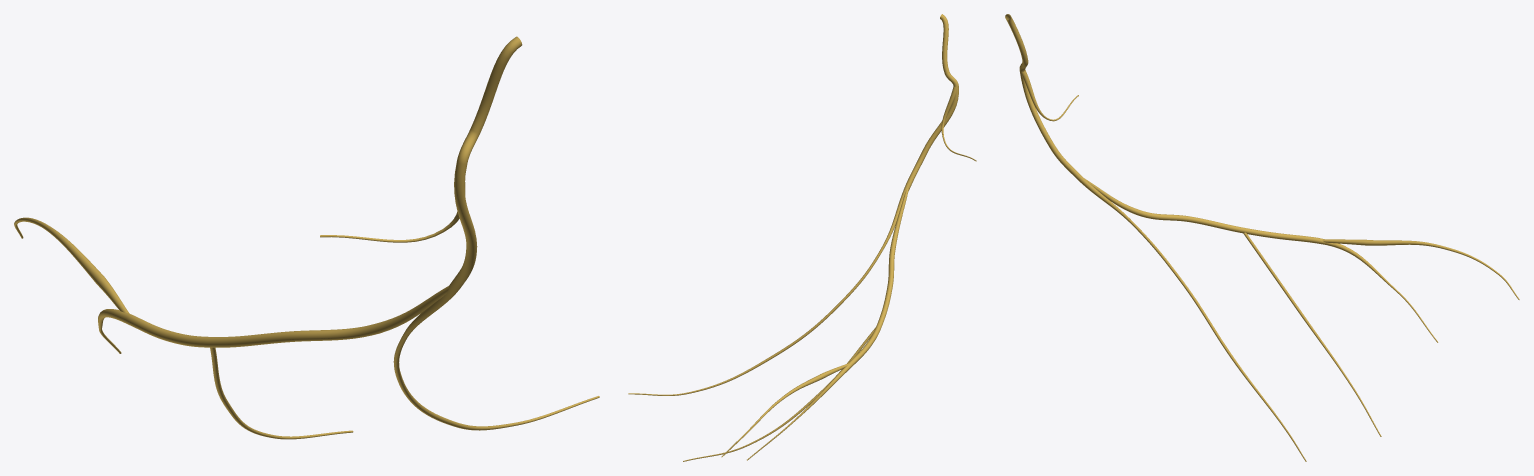
The picture shows the model from 3 angles, left to right: view 1: azimuth 30°, elevation 25°; view 2: azimuth 150°, elevation 25°; view 3: azimuth 270°, elevation 25°; orthographic projection. The views are drawn at different scales.
Visible parts, largest first — view 1: 右侧胸外侧神经; view 2: 右侧胸外侧神经; view 3: 右侧胸外侧神经.
Boxes of the visible parts, left/top/right/bottom form: 右侧胸外侧神经: left=14, top=36, right=599, bottom=439; 右侧胸外侧神经: left=628, top=14, right=976, bottom=461; 右侧胸外侧神经: left=1005, top=14, right=1519, bottom=461.
Size of the model in its own units: 0.1529 by 0.2061 by 0.2556.
